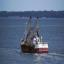fishing boat: (19, 14, 51, 56)
